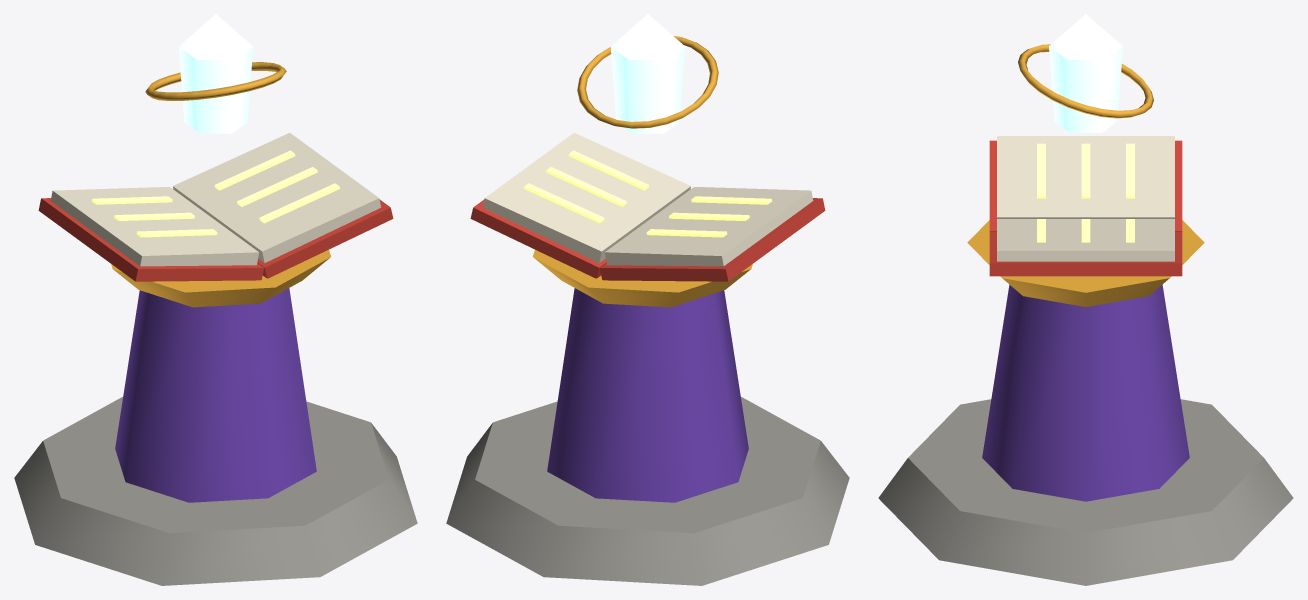
Rendered from IndexKiosk.glb.
The picture shows the model from 3 angles, left to right: view 1: azimuth 30°, elevation 25°; view 2: azimuth 150°, elevation 25°; view 3: azimuth 270°, elevation 25°; orthographic projection.
Parts seen in each view (by area): view 1: Body, HoverGem, Rune, HoverRing; view 2: Body, HoverGem, Rune, HoverRing; view 3: Body, HoverGem, Rune, HoverRing.
Part boxes in pixels (x1,y1,x2,y2): Body: (14,133,417,585); HoverGem: (178,14,253,133); Rune: (91,150,339,237); HoverRing: (145,62,286,100); Body: (446,133,849,585); HoverGem: (610,14,685,133); Rune: (524,150,772,237); HoverRing: (577,36,718,128); Body: (878,136,1293,585); HoverGem: (1049,14,1122,132); Rune: (1037,143,1134,242); HoverRing: (1018,44,1153,118).
Size of the model in its own units: 5.6 by 7.2 by 5.6.
4 materials, 2 textured.
